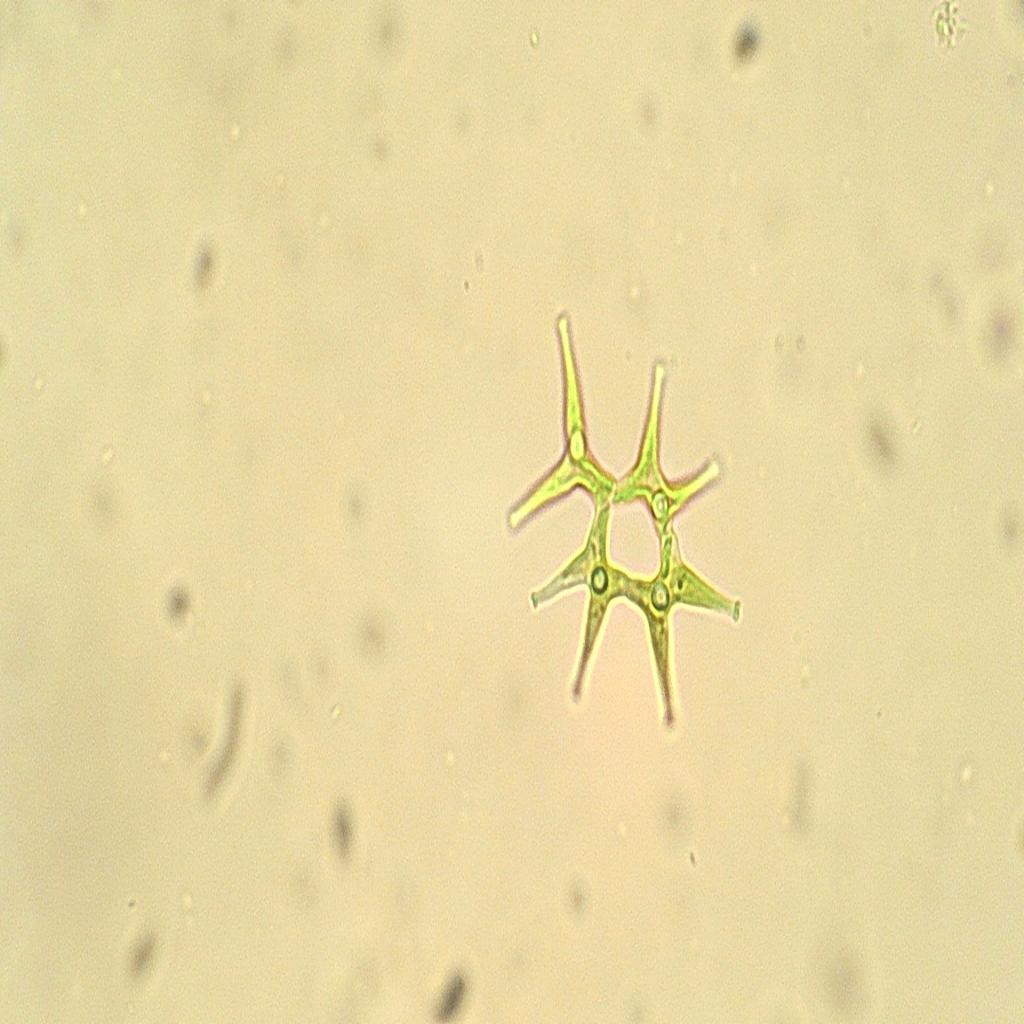Pediastrum_75FI: (495, 293, 749, 739)
